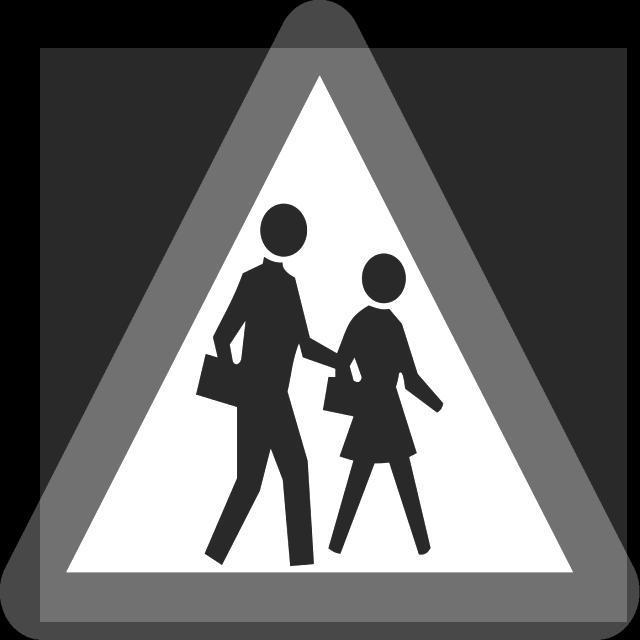school ahead: (24, 23, 613, 623)
